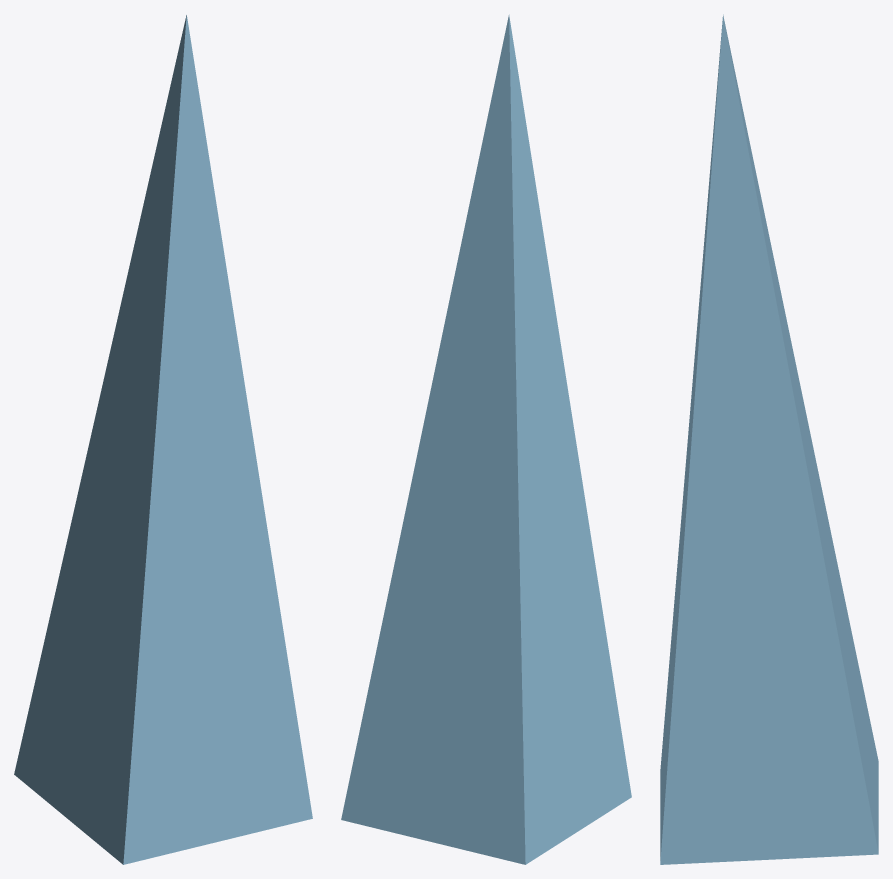
File: sonopet.dae
3 views of the same model, side by side, from view 1: azimuth 30°, elevation 25°; view 2: azimuth 150°, elevation 25°; view 3: azimuth 270°, elevation 25° (orthographic). The views are drawn at different scales.
Visible parts, largest first — view 1: ID2; view 2: ID2; view 3: ID2.
Part boxes in pixels (x1,y1,x2,y2): ID2: (14, 15, 312, 864); ID2: (341, 14, 631, 864); ID2: (660, 14, 878, 864).
Size of the model in its own units: 0.05 by 0.0499 by 0.2028.
